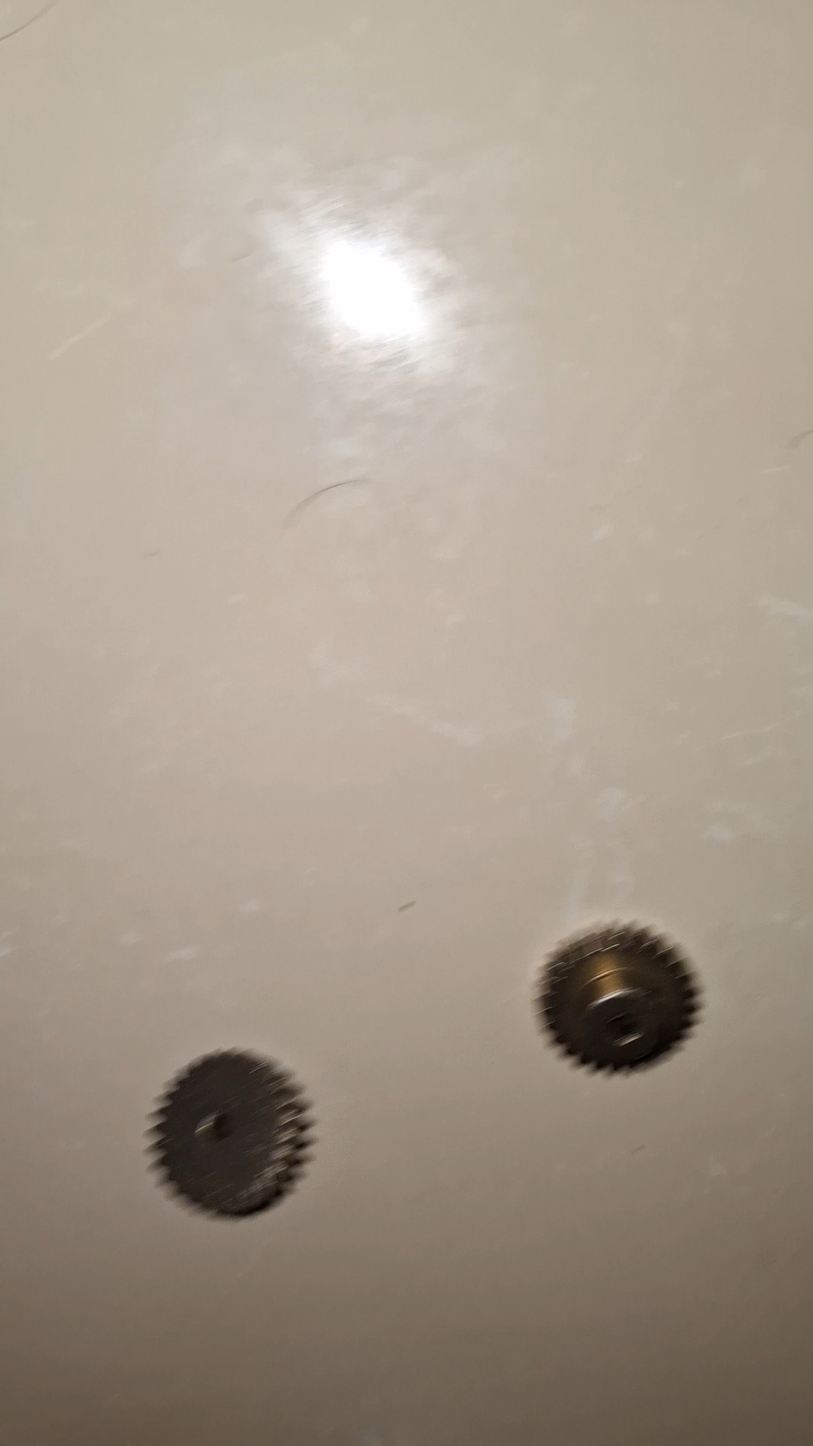spur gear: (151, 1051, 309, 1216), (537, 924, 697, 1070)
